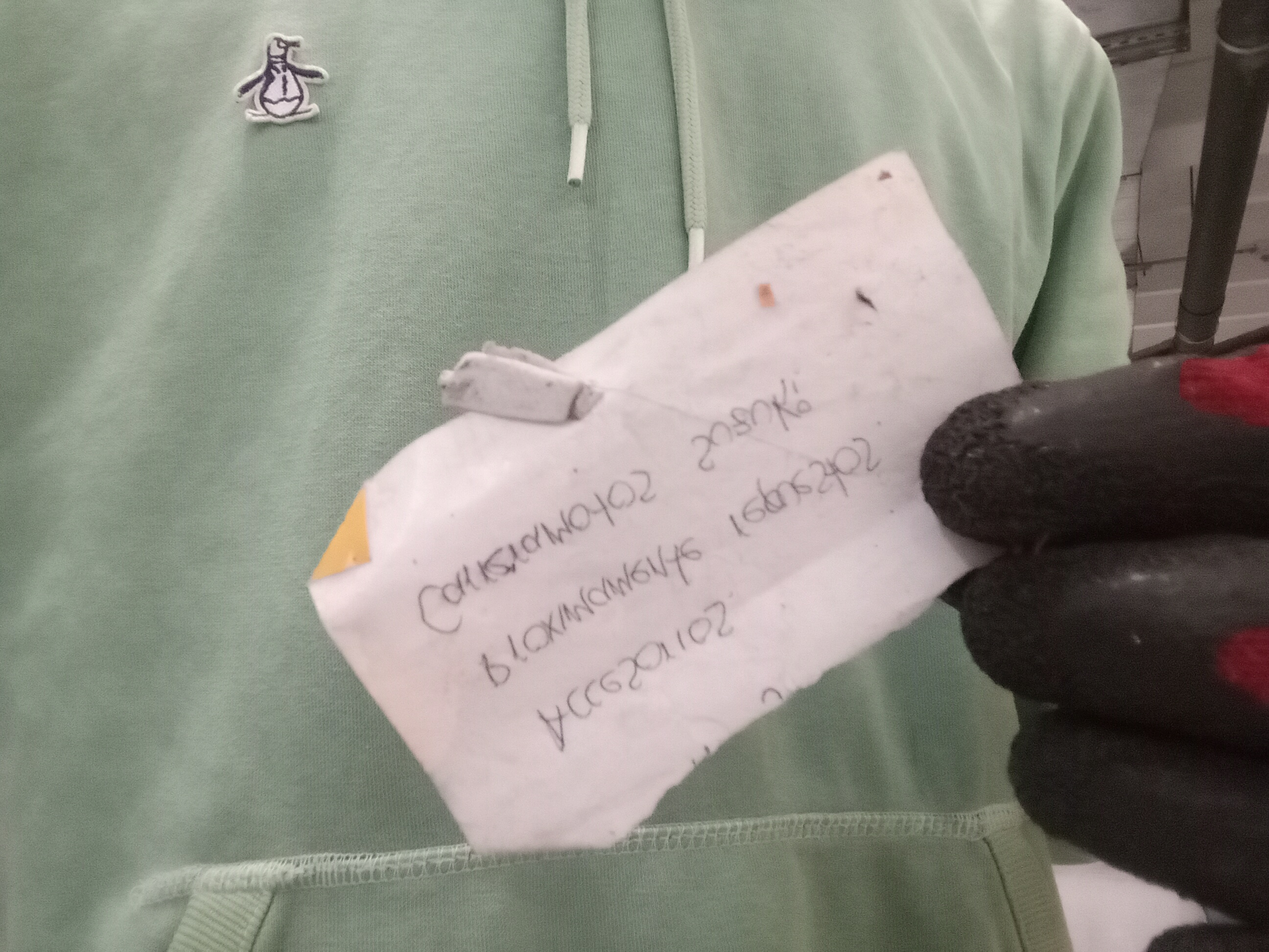Papel: (309, 146, 1043, 855)
